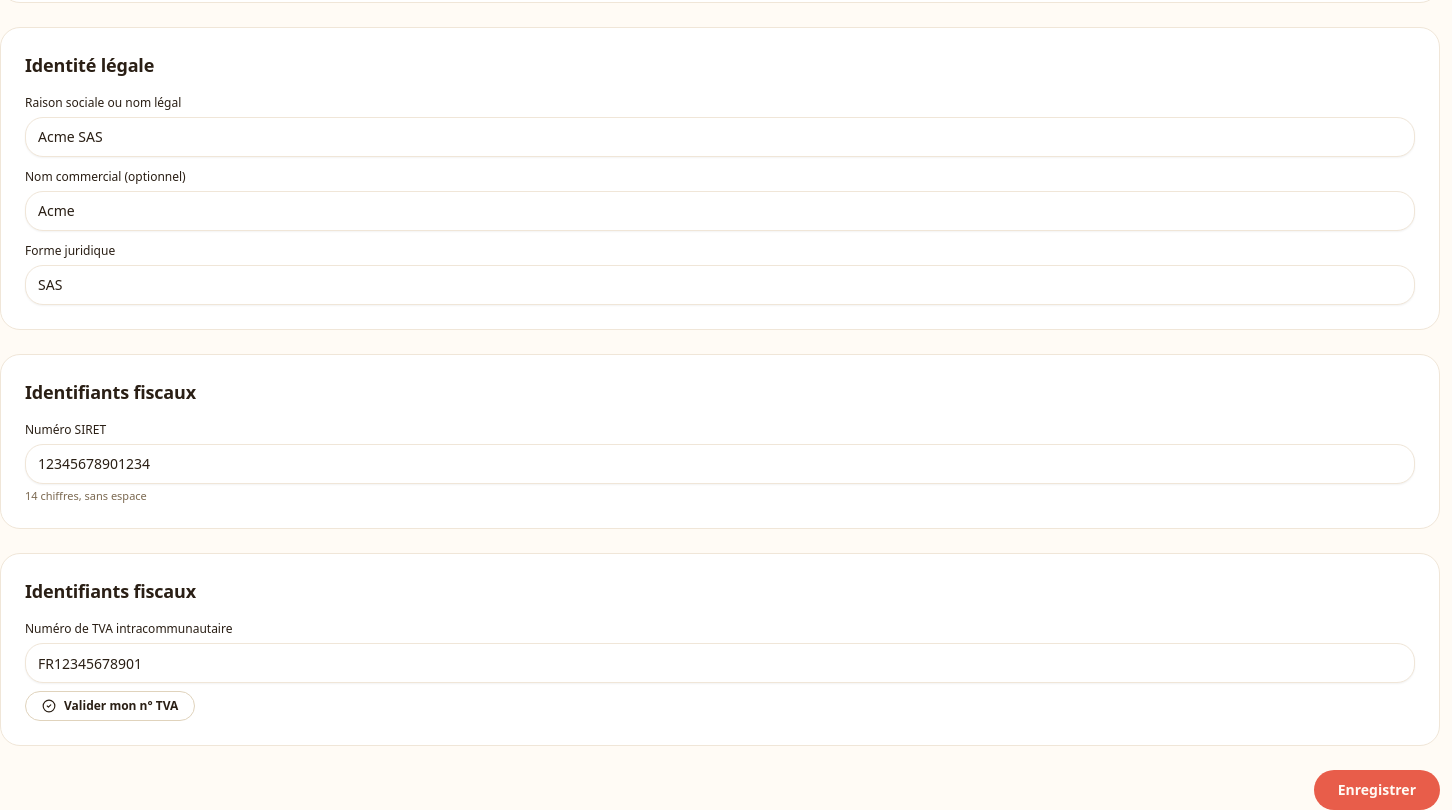
Test: BillingProfileForm › shows 'Profil enregistré' after a successful save
(page scrolled)
Check: the field labelled "Raison sociale ou nom légal" holds "Acme SAS", box left=25, top=117, right=1415, bottom=157
Click the button "Enregistrer". click: (1377, 790)
box: left=1314, top=770, right=1440, bottom=809
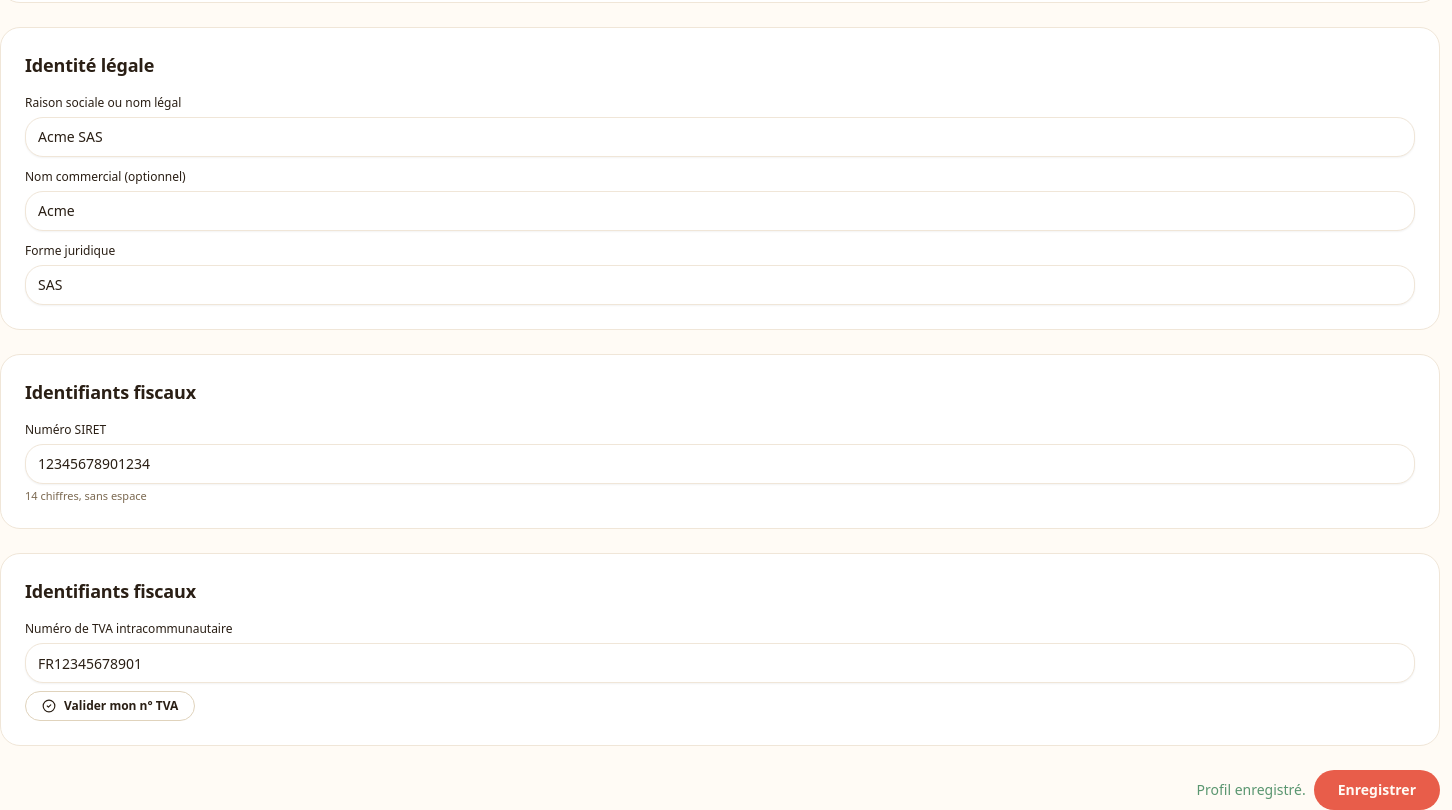
Check: the text "Profil enregistré." is shown, box left=1196, top=780, right=1306, bottom=800
